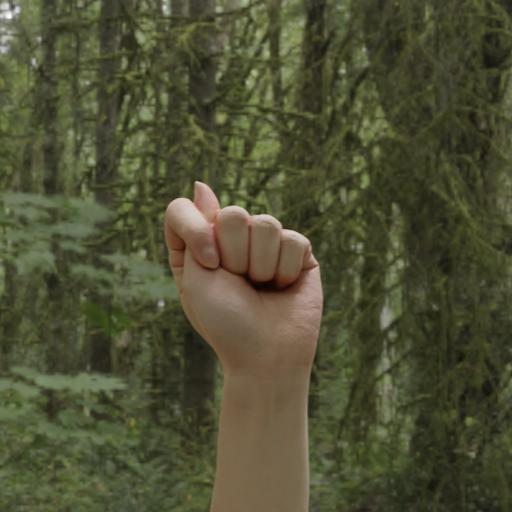T: (146, 163, 336, 512)
